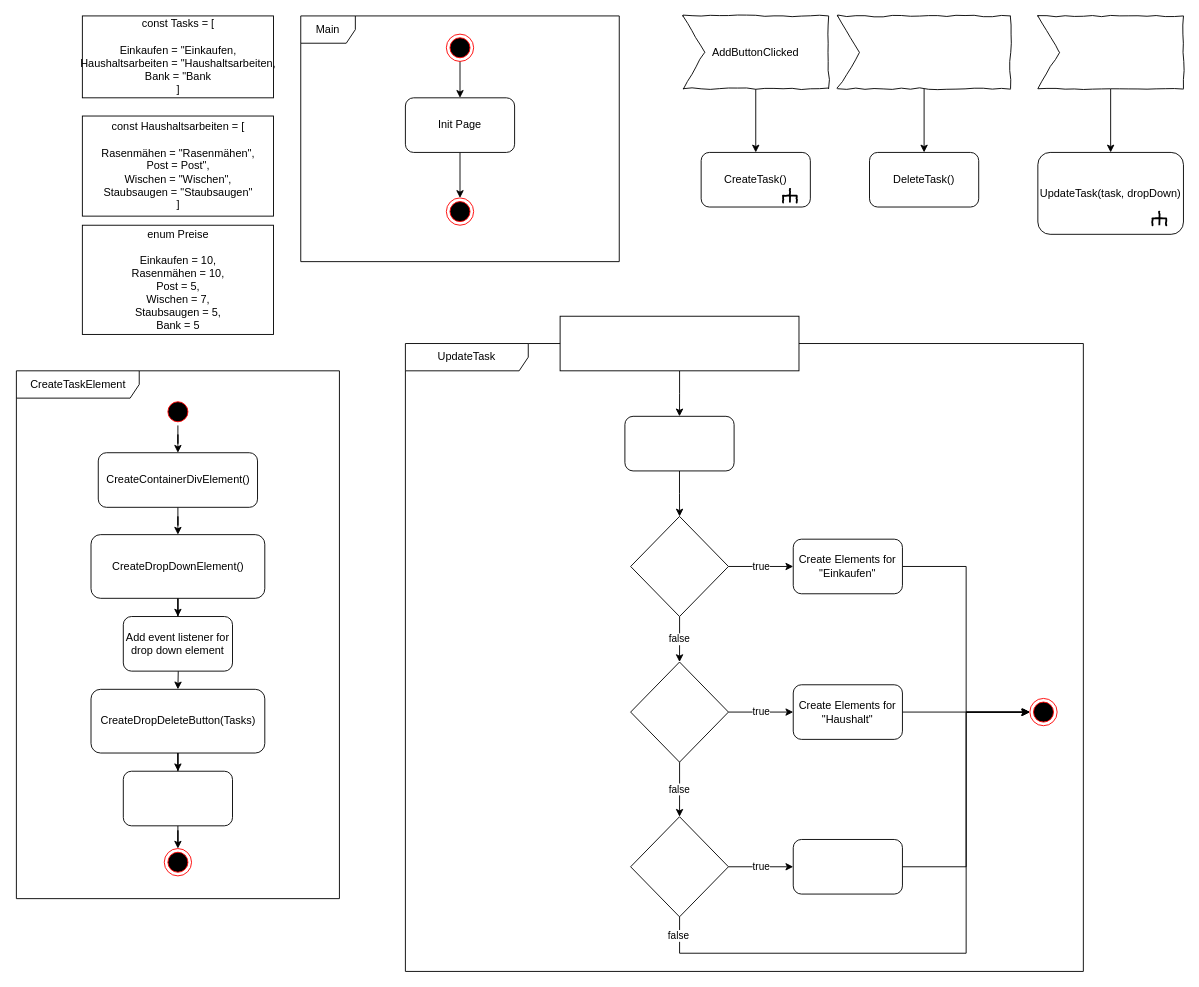
Image size: 1199x987. Some labels were removed from this diagram. Each missing label, with the centre of its shape:
Add event listener for delete button: [177,798]
ClearTask(task): [679,443]
Create Elements for "Bank": [847,866]
dropDown = "Bank": [679,866]
dropDown = "Einkaufen": [679,566]
dropDown = "Haushalt": [679,711]
RemoveTaskButtonClicked: [924,52]
task: HTMLDivElement dropDown: HTMLSelectElement: [679,343]
TaskValueChanged(): [1110,52]
